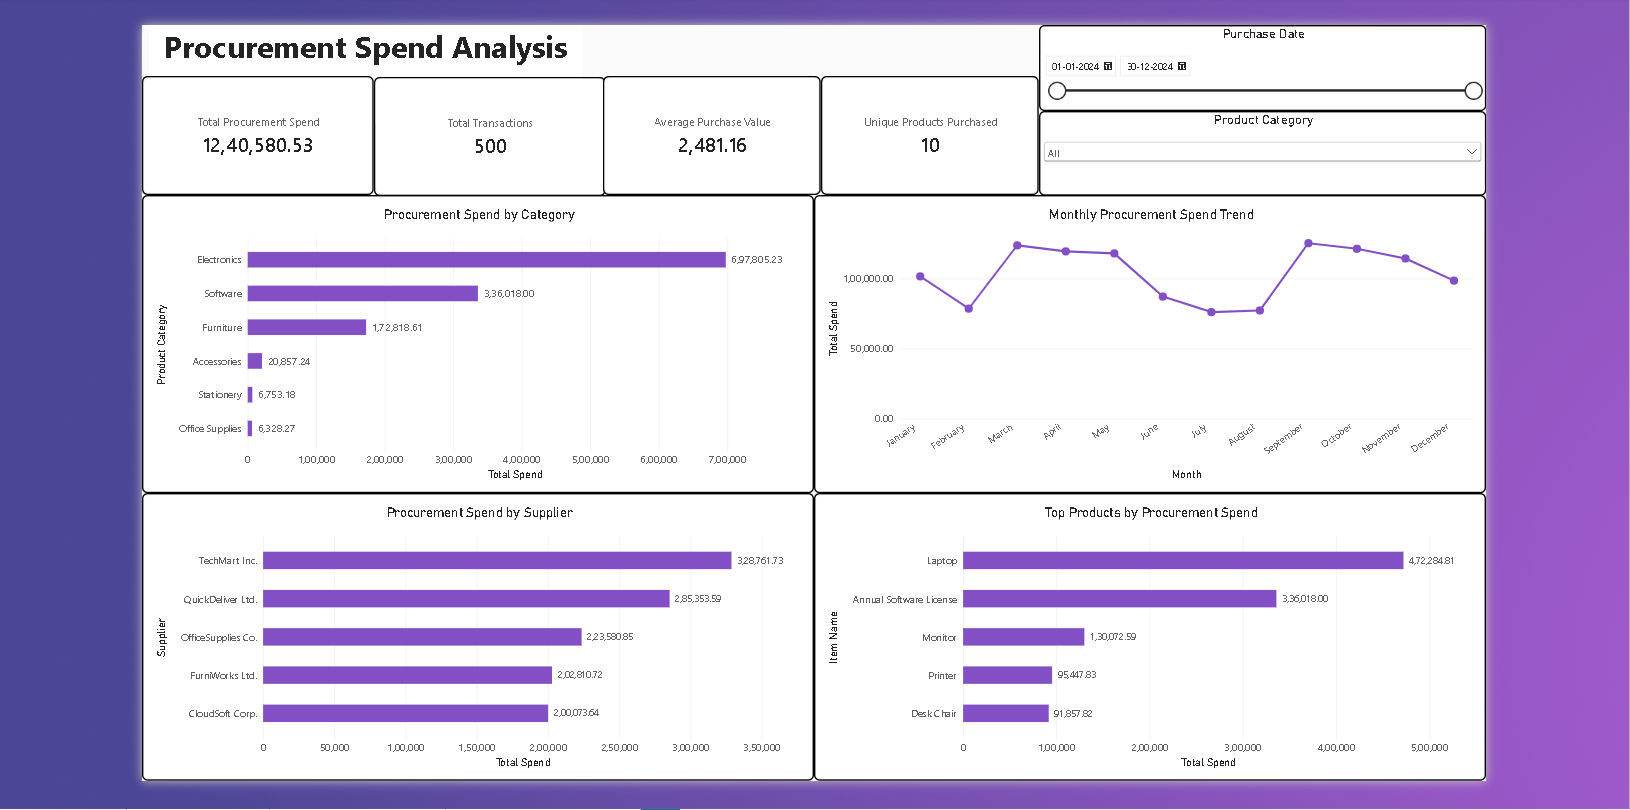

The dashboard page shown, as its layout file describes it:
{"tool":"powerbi","page":{"name":"Executive Overview","canvas":[1920,1080],"ordinal":0},"visuals":[{"type":"textbox","box":[10,0,618.6,72.9],"z":0},{"type":"cardVisual","fields":{"Data":["Fact Purchases.Total Procurement Spend"]},"box":[0,72.9,331.4,170],"z":1000},{"type":"cardVisual","fields":{"Data":["Fact Purchases.Total Transactions"]},"box":[331.4,74.3,331.4,170],"z":2000},{"type":"cardVisual","fields":{"Data":["Fact Purchases.Average Purchase Value"]},"box":[658.6,72.9,311.4,170],"z":3000},{"type":"cardVisual","fields":{"Data":["Fact Purchases.Unique Products Purchased"]},"box":[970,72.9,311.4,170],"z":4000},{"type":"clusteredBarChart","title":"Procurement Spend by Category","fields":{"Category":["DimItem.Category"],"Y":["Fact Purchases.Total Procurement Spend"]},"box":[0,242.9,960,425.7],"z":5000},{"type":"lineChart","title":"Monthly Procurement Spend Trend","fields":{"Category":["DimDate.Date.Variation.Date Hierarchy.Month"],"Y":["Fact Purchases.Total Procurement Spend"]},"box":[960,242.9,960,425.7],"z":6000},{"type":"clusteredBarChart","title":"Procurement Spend by Supplier","fields":{"Category":["DimSupplier.Supplier"],"Y":["Fact Purchases.Total Procurement Spend"]},"box":[0,668.6,960,411.4],"z":7000},{"type":"clusteredBarChart","title":"Top Products by Procurement Spend","fields":{"Category":["DimItem.ItemName"],"Y":["Fact Purchases.Total Procurement Spend"]},"box":[960,668.6,960,411.4],"z":8000},{"type":"slicer","title":"Purchase Date","fields":{"Values":["DimDate.Date"]},"box":[1281.4,0,638.6,122.9],"z":9000},{"type":"slicer","title":"Product Category","fields":{"Values":["DimItem.Category"]},"box":[1281.4,122.9,638.6,121.4],"z":10000}]}

Visuals, with their boxes on the page's 1920x1080 design canvas (x1, y1, x2, y2). These are canvas units, not pixel positions in the 1630x810 screenshot, which may show the page scaled, cropped or inside an application window:
textbox: {"x1": 10, "y1": 0, "x2": 629, "y2": 73}
cardVisual - Fact Purchases.Total Procurement Spend: {"x1": 0, "y1": 73, "x2": 331, "y2": 243}
cardVisual - Fact Purchases.Total Transactions: {"x1": 331, "y1": 74, "x2": 663, "y2": 244}
cardVisual - Fact Purchases.Average Purchase Value: {"x1": 659, "y1": 73, "x2": 970, "y2": 243}
cardVisual - Fact Purchases.Unique Products Purchased: {"x1": 970, "y1": 73, "x2": 1281, "y2": 243}
"Procurement Spend by Category" clusteredBarChart: {"x1": 0, "y1": 243, "x2": 960, "y2": 669}
"Monthly Procurement Spend Trend" lineChart: {"x1": 960, "y1": 243, "x2": 1920, "y2": 669}
"Procurement Spend by Supplier" clusteredBarChart: {"x1": 0, "y1": 669, "x2": 960, "y2": 1080}
"Top Products by Procurement Spend" clusteredBarChart: {"x1": 960, "y1": 669, "x2": 1920, "y2": 1080}
"Purchase Date" slicer: {"x1": 1281, "y1": 0, "x2": 1920, "y2": 123}
"Product Category" slicer: {"x1": 1281, "y1": 123, "x2": 1920, "y2": 244}
